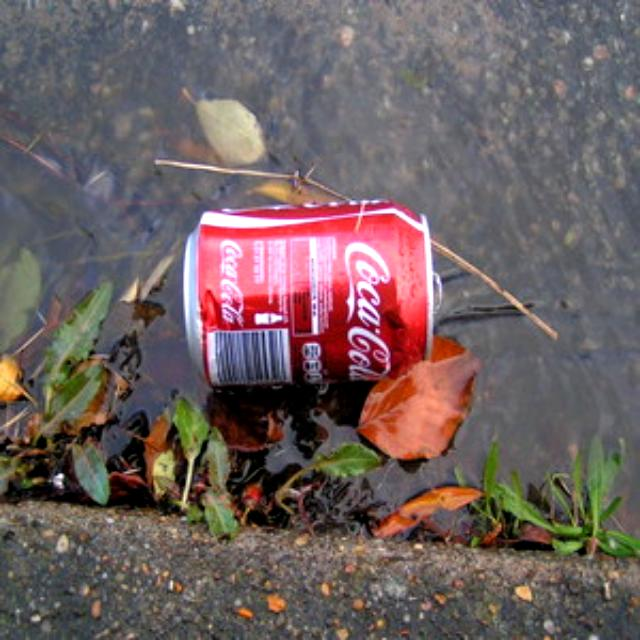Metal: (180, 205, 434, 387)
